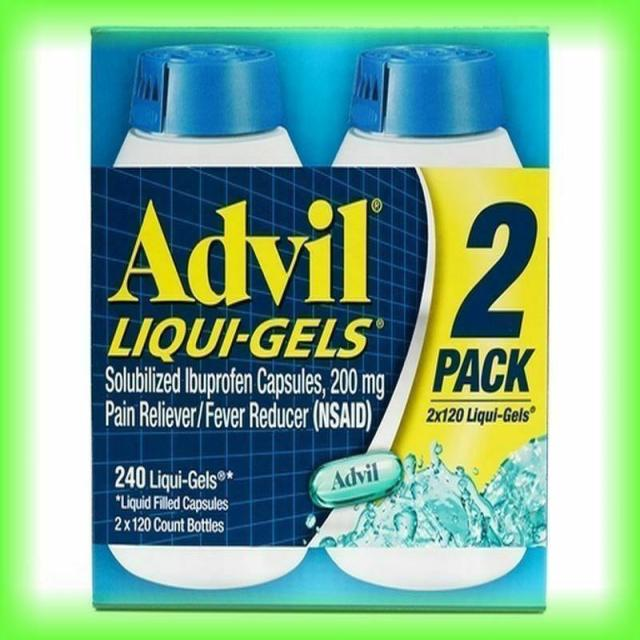medicine: (92, 32, 544, 608)
